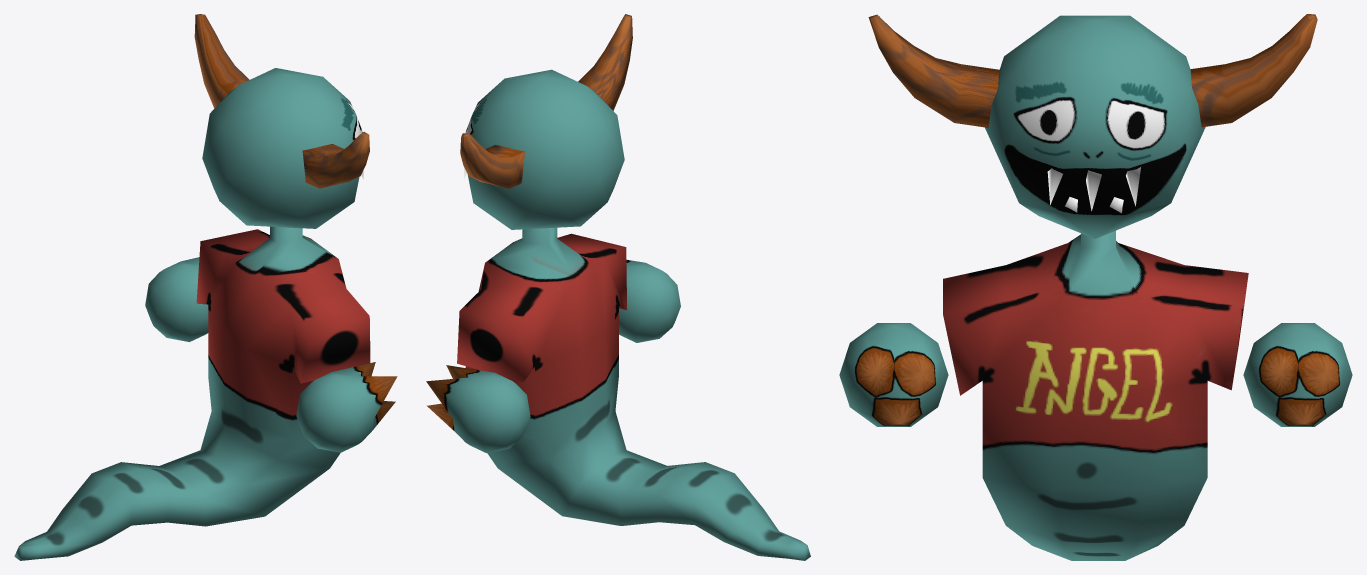
File: demon.glb
3 views of the same model, side by side, from view 1: azimuth 30°, elevation 25°; view 2: azimuth 150°, elevation 25°; view 3: azimuth 270°, elevation 25° (orthographic). The views are drawn at different scales.
Visible parts, largest first — view 1: Body, Head, HandRight, HandLeft, HornRight, HornLeft; view 2: Body, Head, HandLeft, HandRight, HornRight, HornLeft; view 3: Body, Head, HandRight, HandLeft, HornRight, HornLeft, Teeth.
Boxes of the visible parts, x1=… form: Body: x1=14, y1=226, x2=370, y2=560; Head: x1=202, y1=68, x2=362, y2=228; HandRight: x1=296, y1=362, x2=397, y2=452; HandLeft: x1=145, y1=257, x2=208, y2=341; HornRight: x1=302, y1=131, x2=369, y2=188; HornLeft: x1=194, y1=14, x2=249, y2=108; Body: x1=457, y1=227, x2=810, y2=560; Head: x1=465, y1=69, x2=624, y2=229; HandLeft: x1=426, y1=365, x2=530, y2=452; HandRight: x1=619, y1=259, x2=680, y2=342; HornRight: x1=578, y1=14, x2=632, y2=110; HornLeft: x1=460, y1=133, x2=524, y2=188; Body: x1=943, y1=230, x2=1248, y2=560; Head: x1=985, y1=15, x2=1205, y2=238; HandRight: x1=839, y1=323, x2=948, y2=426; HandLeft: x1=1243, y1=323, x2=1352, y2=426; HornRight: x1=868, y1=14, x2=999, y2=127; HornLeft: x1=1190, y1=14, x2=1317, y2=127; Teeth: x1=1047, y1=167, x2=1140, y2=213.
Size of the model in its own units: 4.61 by 5.57 by 4.56.
1 material, 1 textured.
